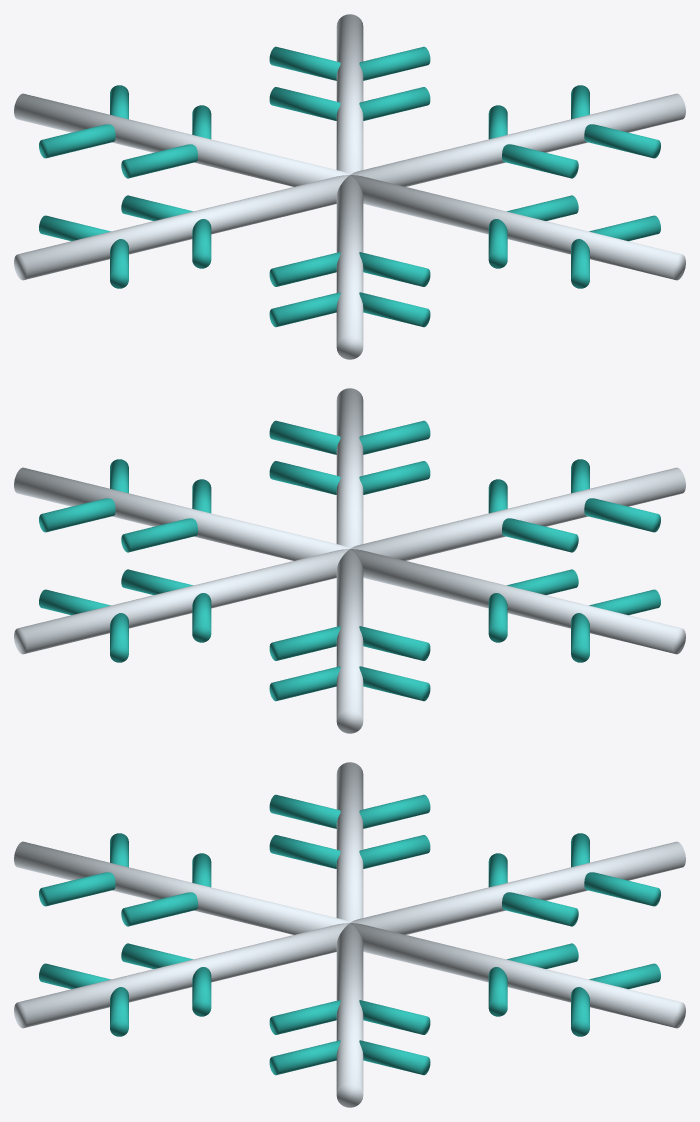
The model's file is snowflake-quality.glb.
3 views of the same model, one above another, from view 1: azimuth 30°, elevation 25°; view 2: azimuth 150°, elevation 25°; view 3: azimuth 270°, elevation 25° (orthographic).
Parts seen in each view (by area): view 1: Crystal arm; view 2: Crystal arm; view 3: Crystal arm.
Boxes of the visible parts, x1,y1,x2,y2 form: Crystal arm: (14, 14, 685, 359); Crystal arm: (14, 388, 685, 733); Crystal arm: (14, 762, 685, 1107).
Size of the model in its own units: 2 by 0.07 by 1.77.
